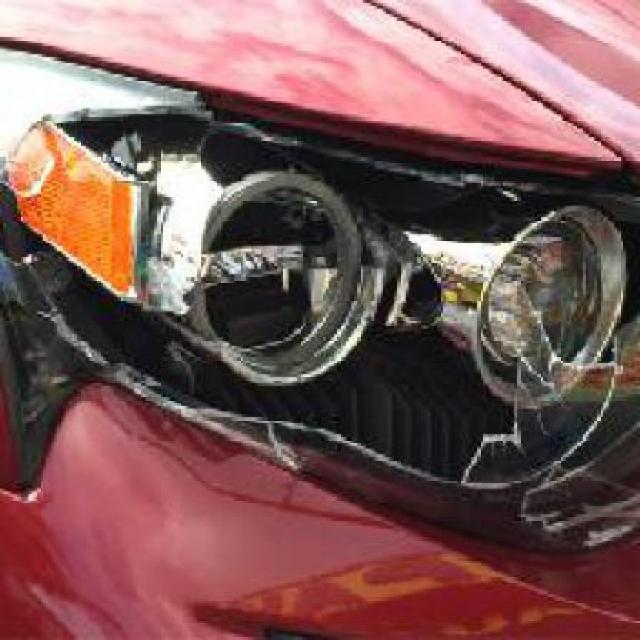damaged-head-light: (0, 42, 637, 495)
